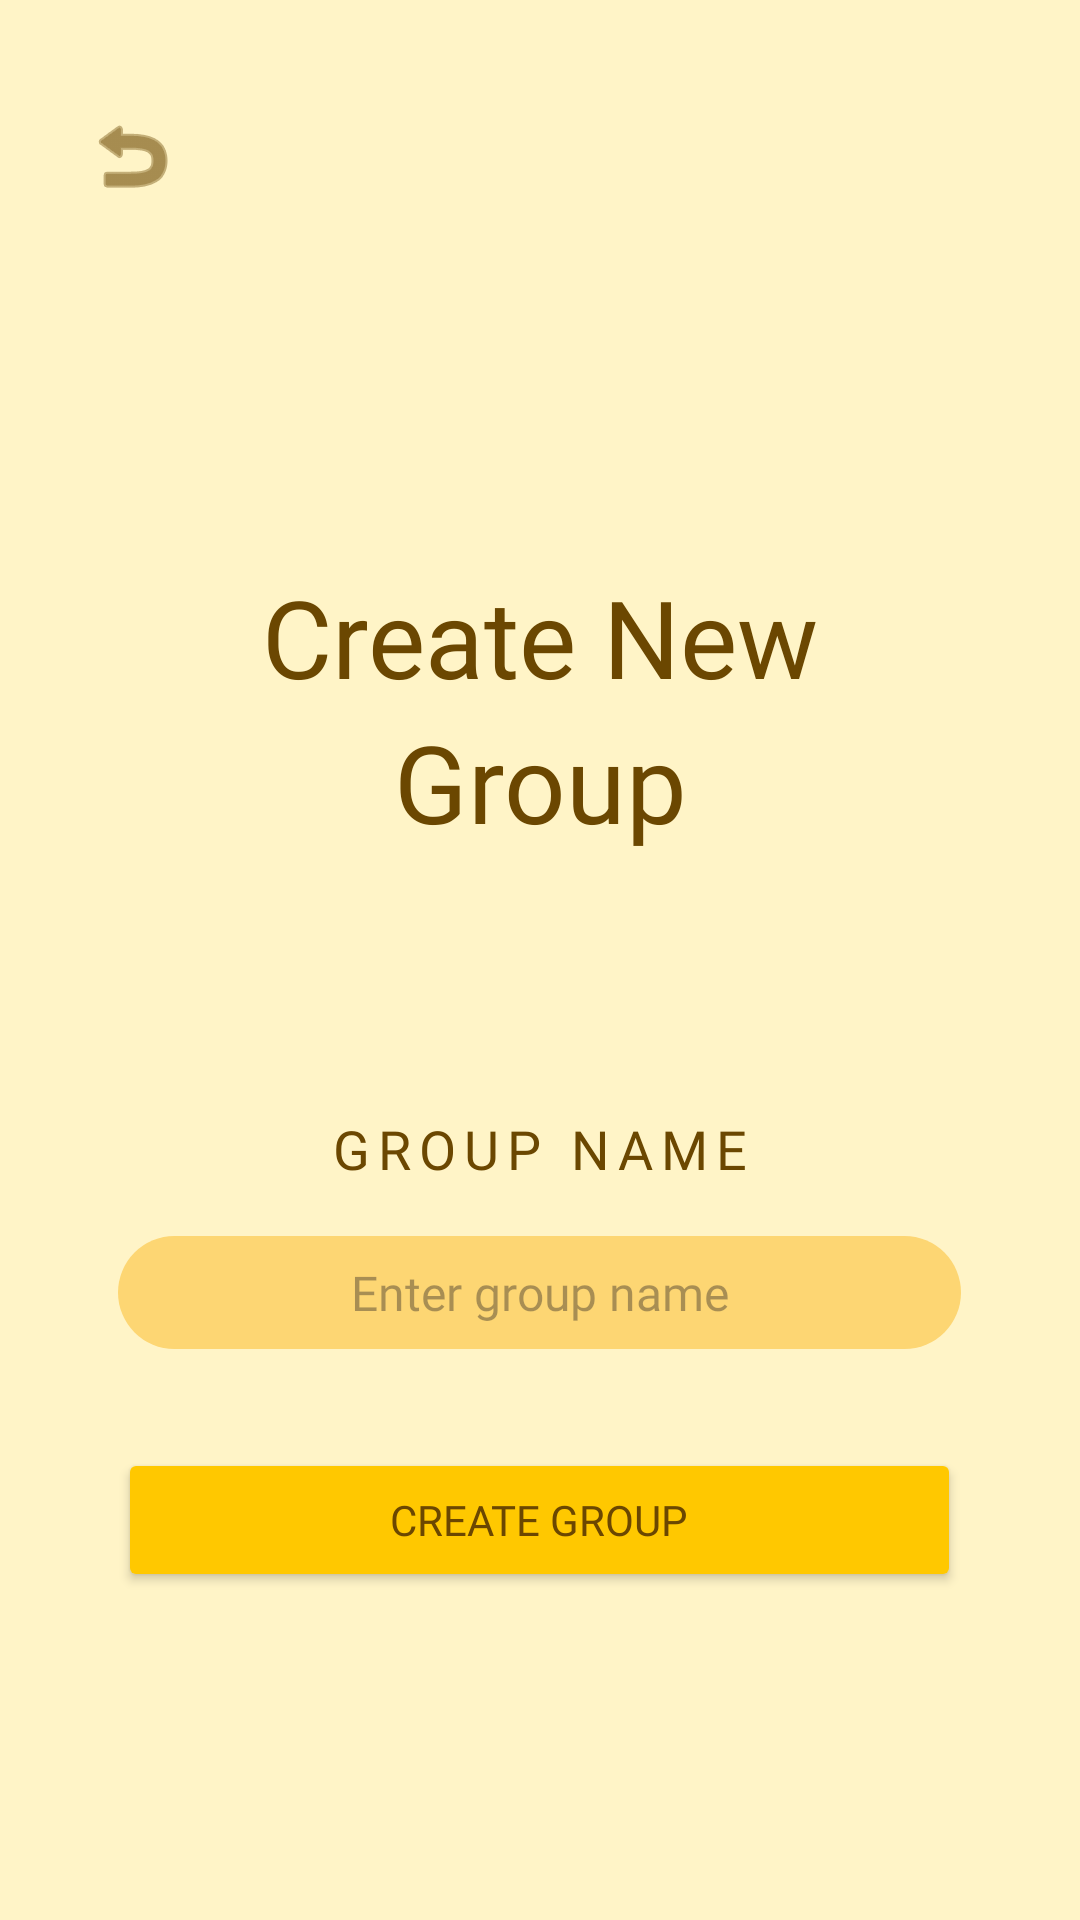

Named icons in this screenshot (1080w x 1920h) and their bounding boxes, (x1, y1, x2, y2):
Back: (99, 125, 168, 188)
